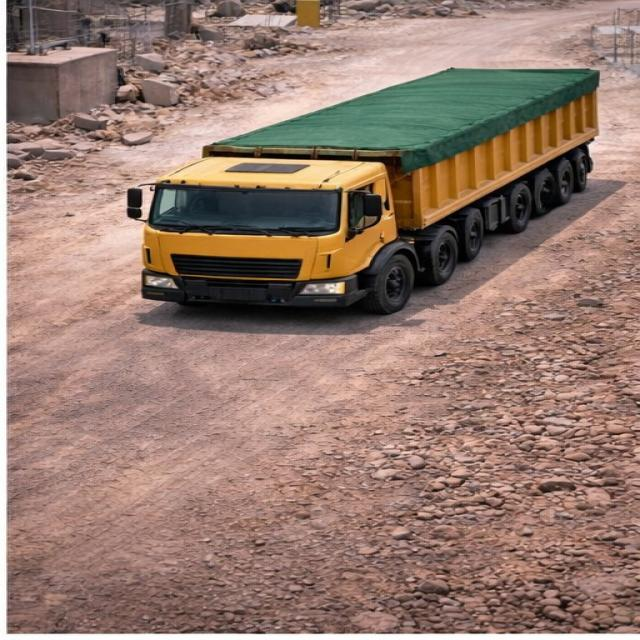trailer: (204, 66, 596, 152)
truck: (123, 61, 616, 304)
